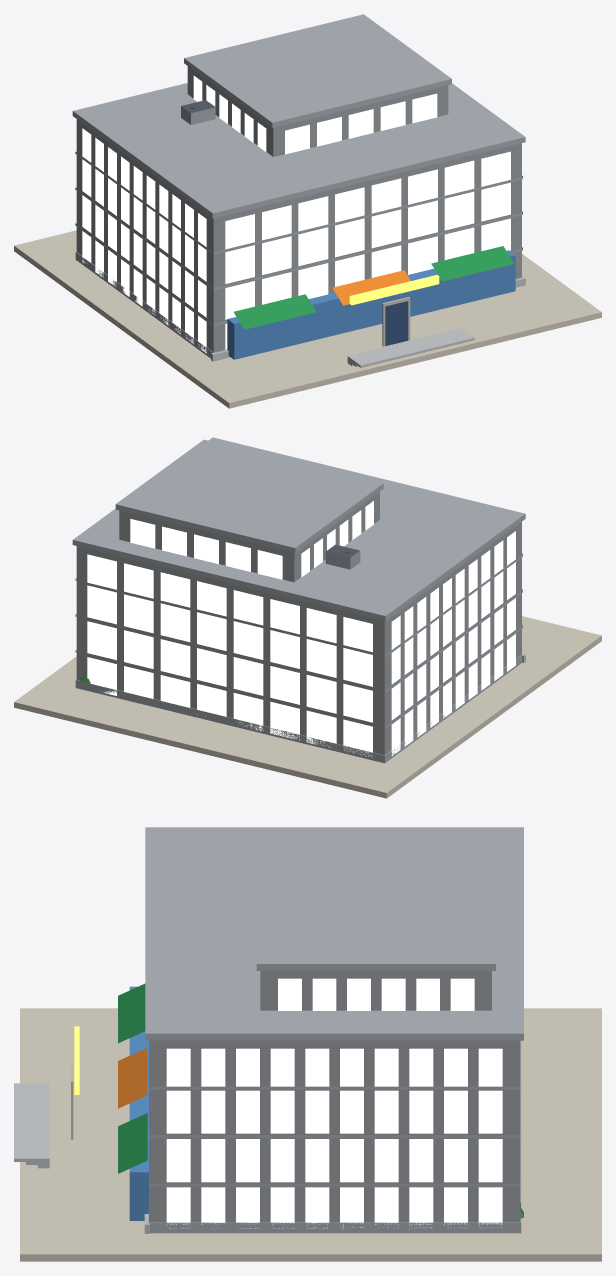
3 renders of one model, top to bottom at view 1: azimuth 30°, elevation 25°; view 2: azimuth 150°, elevation 25°; view 3: azimuth 270°, elevation 25°, orthographic. The views are drawn at different scales.
Parts seen in each view (by area): view 1: b16_x2; view 2: b16_x2; view 3: b16_x2.
Part boxes in pixels (bbox=[...]): b16_x2: bbox=[14, 14, 601, 408]; b16_x2: bbox=[14, 437, 601, 798]; b16_x2: bbox=[14, 827, 601, 1261].
Size of the model in its own units: 1.96 by 0.954 by 1.98.
